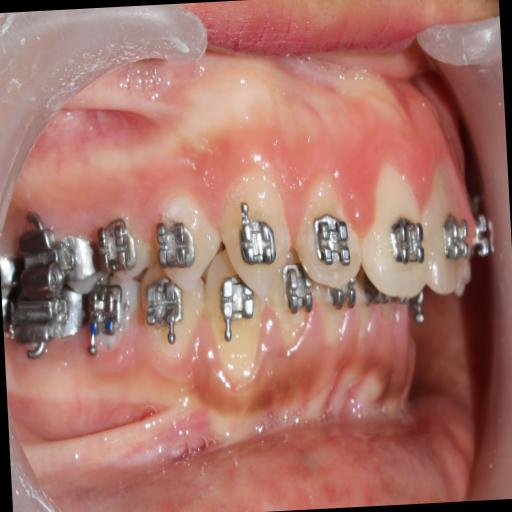correct_brace: (153, 196, 224, 288), (234, 200, 280, 274), (310, 210, 353, 272), (390, 216, 428, 270)
incorrect_brace: (293, 176, 363, 286), (154, 218, 202, 274)
